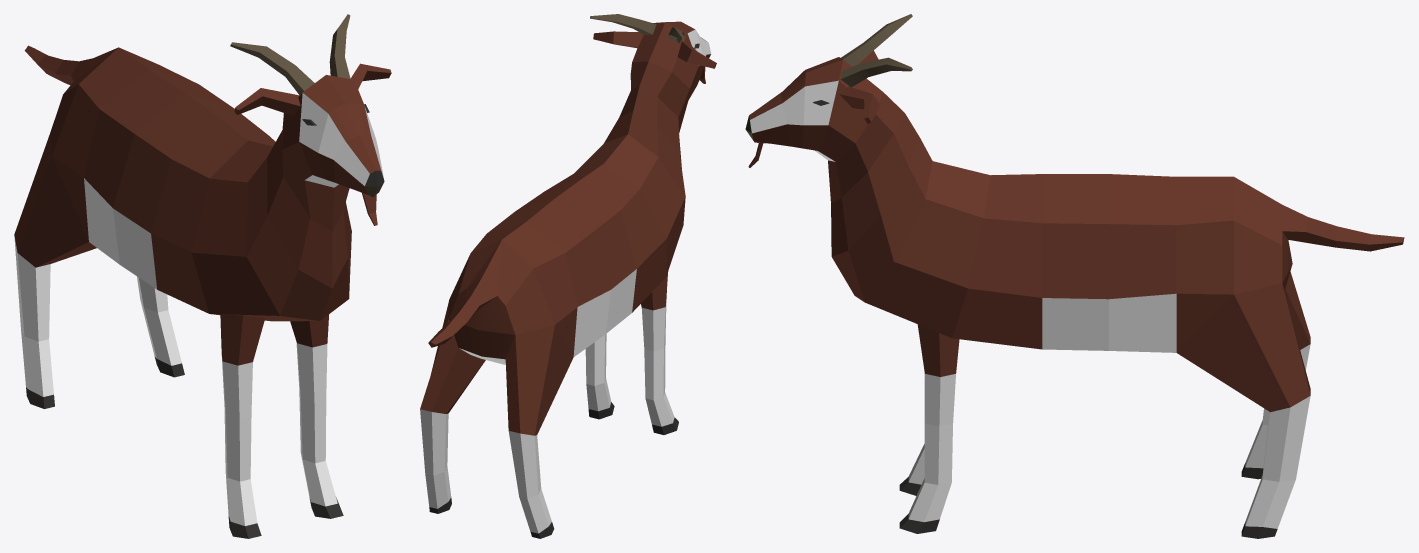
The model's file is animal_goat.glb.
The picture shows the model from 3 angles, left to right: view 1: azimuth 30°, elevation 25°; view 2: azimuth 150°, elevation 25°; view 3: azimuth 270°, elevation 25°; orthographic projection. The views are drawn at different scales.
Visible parts, largest first — view 1: Geo_Goat; view 2: Geo_Goat; view 3: Geo_Goat.
Part boxes in pixels (left/top/right/bottom): Geo_Goat: left=14, top=14, right=391, bottom=538; Geo_Goat: left=420, top=14, right=716, bottom=538; Geo_Goat: left=745, top=14, right=1404, bottom=538.
Bounding box in the file's own units: 51.83 × 159 × 203.
1 material, 1 textured.
